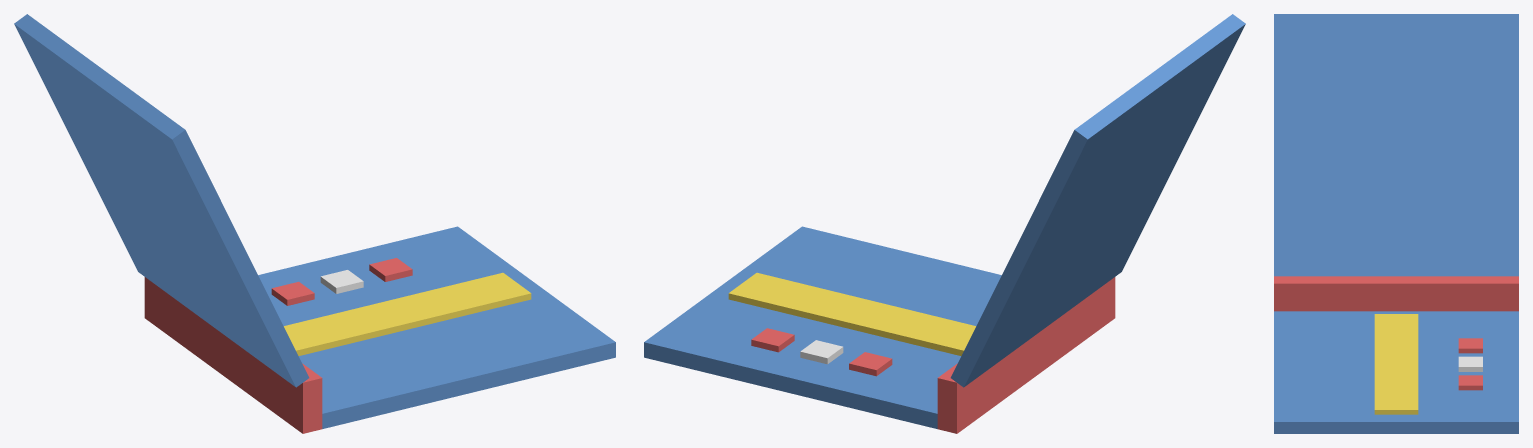
File: binder_open.glb
3 views of the same model, side by side, from view 1: azimuth 30°, elevation 25°; view 2: azimuth 150°, elevation 25°; view 3: azimuth 270°, elevation 25° (orthographic). The views are drawn at different scales.
Visible parts, largest first — view 1: PK_binder_open; view 2: PK_binder_open; view 3: PK_binder_open.
Part boxes in pixels (x1,y1,x2,y2): PK_binder_open: (14, 14, 615, 433); PK_binder_open: (644, 14, 1245, 433); PK_binder_open: (1274, 14, 1518, 433).
Size of the model in its own units: 0.4536 by 0.3251 by 0.28.
